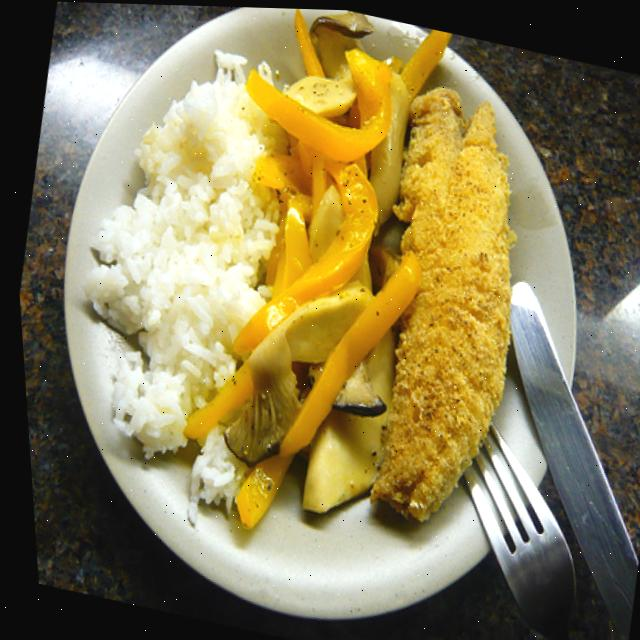炸货点心: (314, 19, 590, 552)
熟制海鲜: (314, 19, 590, 552)
